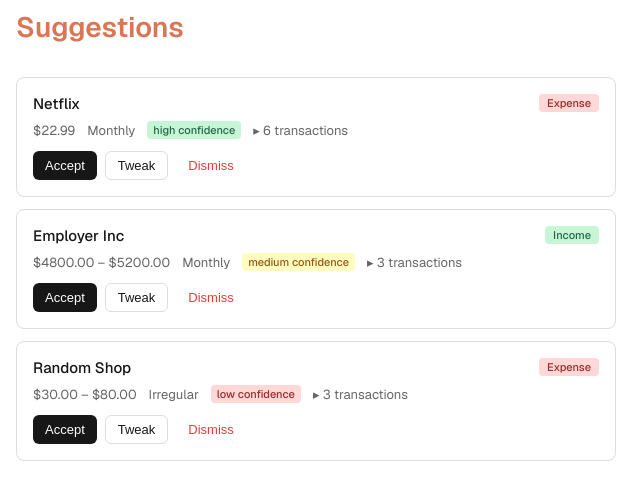
Test case: SuggestionsPage › accepts a suggestion and removes it from the list
Expected: the text "Netflix" is shown, [33, 94, 80, 113]
What coordinates should you click on to do the following:
click the button "Accept" below "Netflix"
I would click on:
 (65, 166)
Its box is [33, 151, 97, 180].
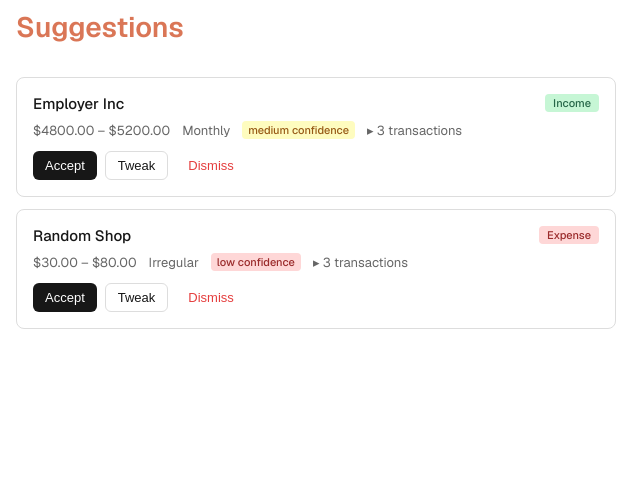
Expected: the text "Employer Inc" is shown, [33, 94, 124, 113]
Expected: the text "Netflix" is gone
